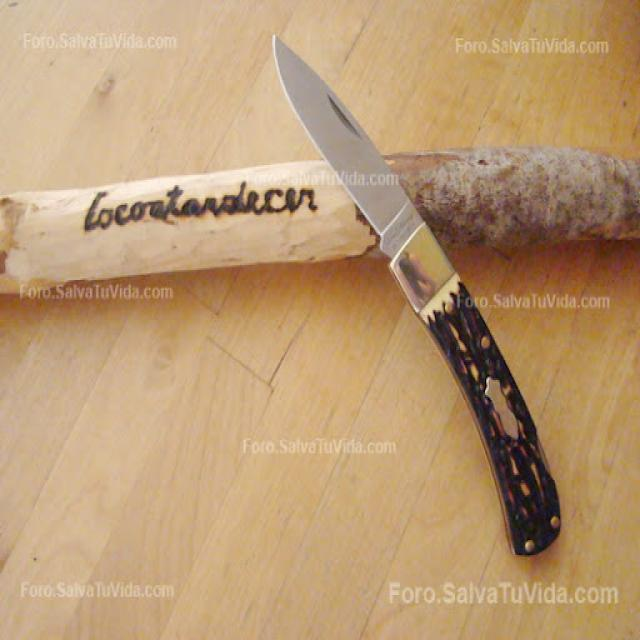knife: (269, 24, 572, 565)
